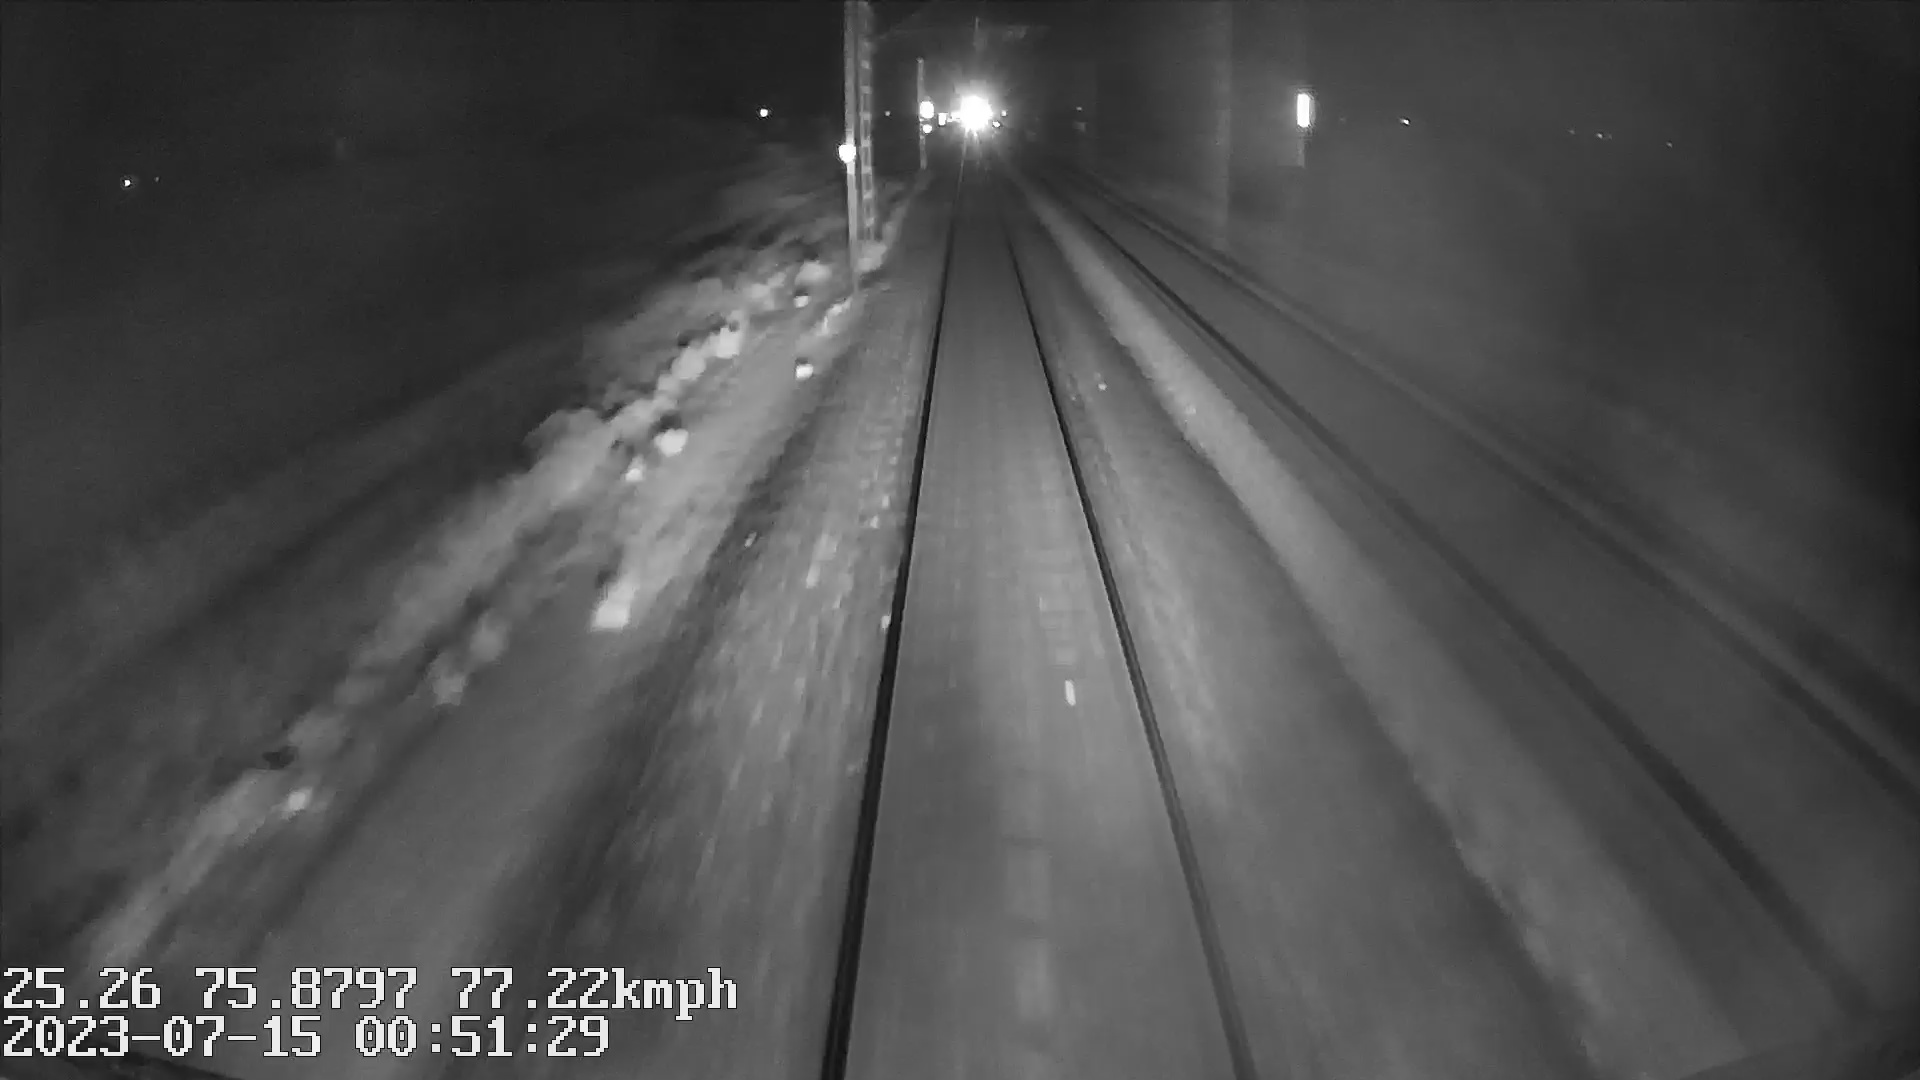track1: (838, 168, 1242, 1043)
track2: (1064, 183, 1906, 915)
